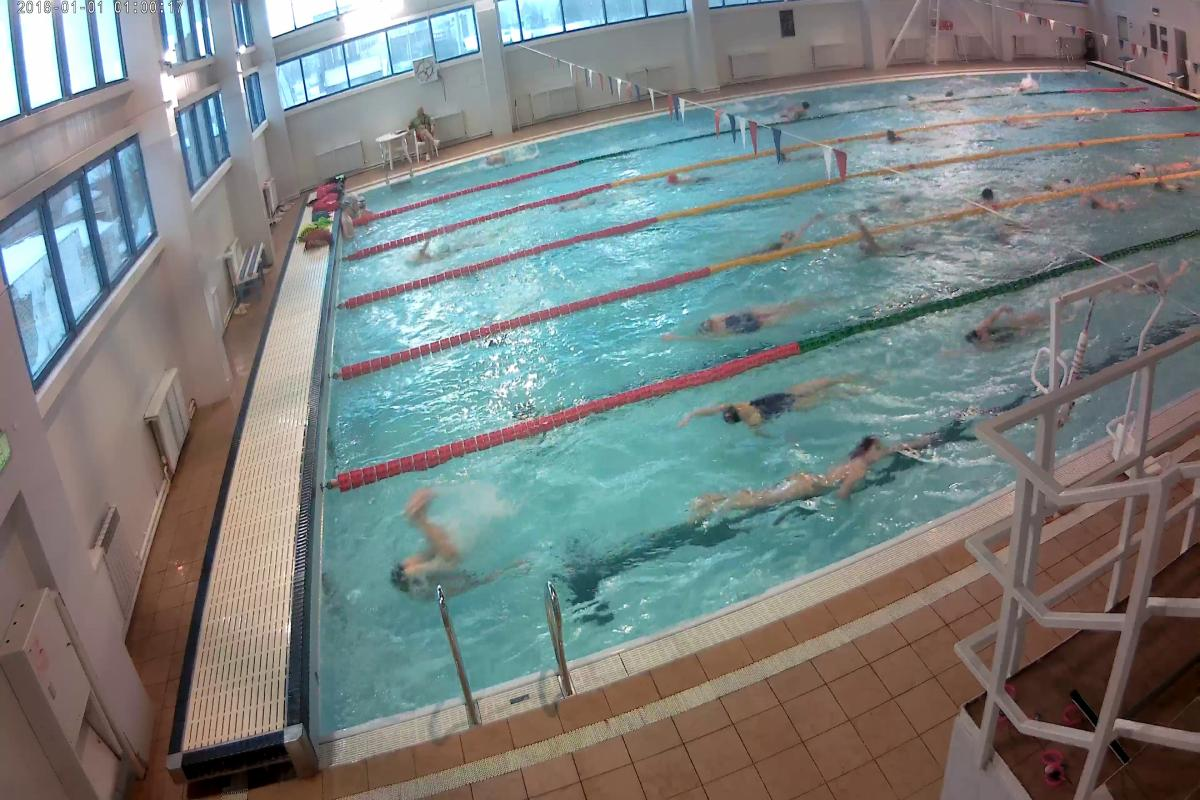swimmer: (716, 444, 884, 515), (374, 508, 499, 603), (689, 371, 850, 432), (682, 298, 808, 344), (959, 310, 1045, 350), (849, 230, 935, 269), (1072, 191, 1151, 230), (740, 222, 819, 256), (974, 205, 1030, 242)
